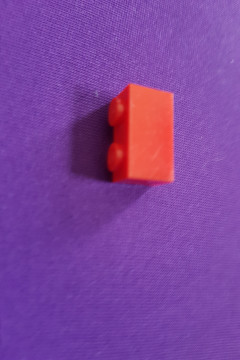1x2 red: (106, 83, 175, 187)
